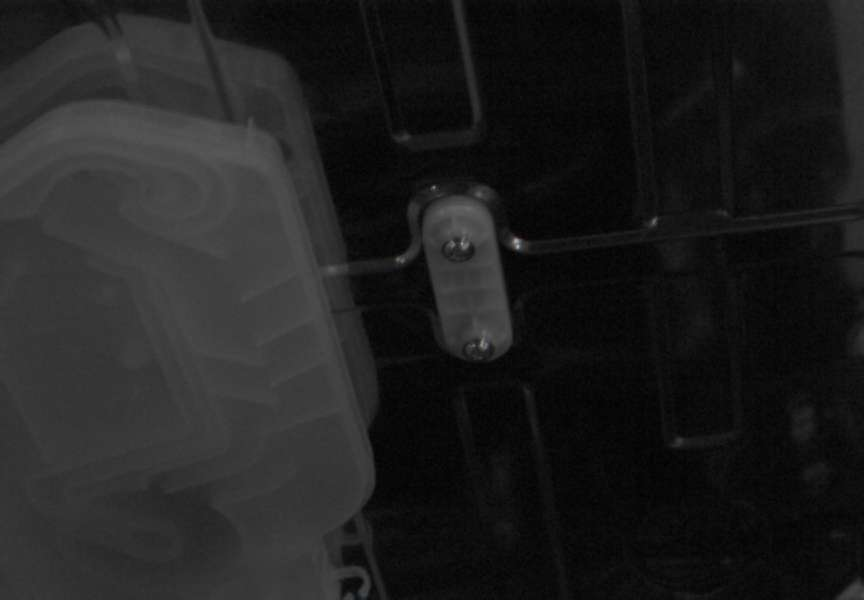screw: (442, 237, 475, 262), (463, 337, 495, 362)
